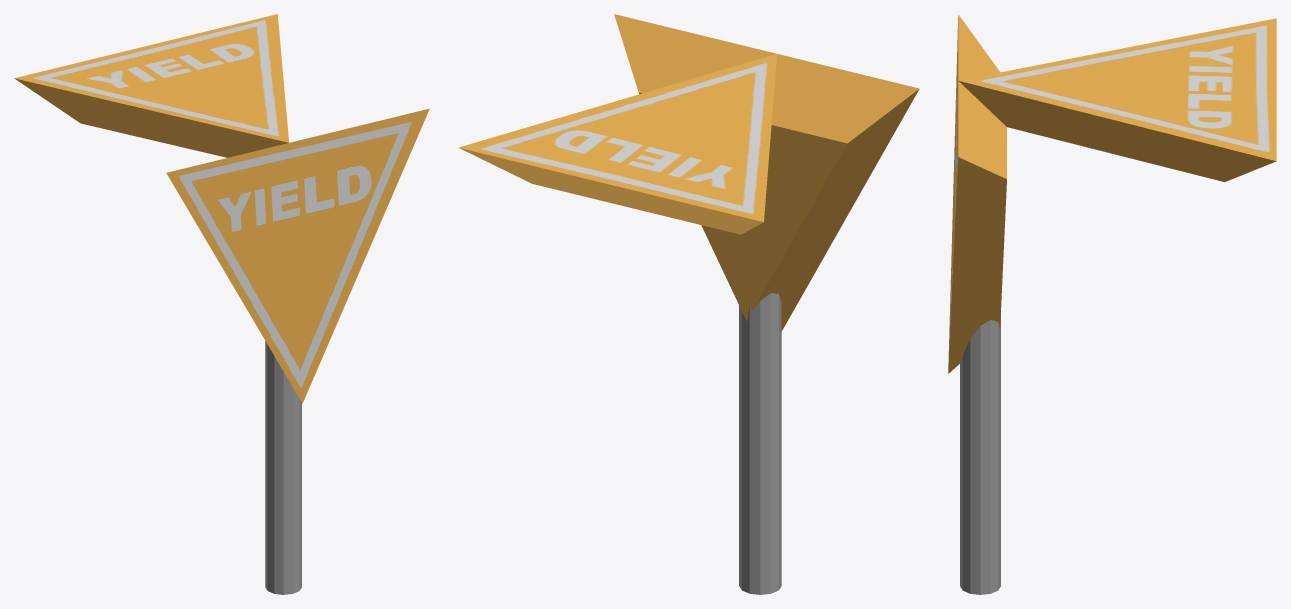
Rendered from yieldSign_v2.fbx.
The picture shows the model from 3 angles, left to right: view 1: azimuth 30°, elevation 25°; view 2: azimuth 150°, elevation 25°; view 3: azimuth 270°, elevation 25°; orthographic projection. The views are drawn at different scales.
Parts seen in each view (by area): view 1: yield_cube_01, yield_pole_01; view 2: yield_cube_01, yield_pole_01; view 3: yield_cube_01, yield_pole_01.
Part boxes in pixels (x1,y1,x2,y2): yield_cube_01: (14, 14, 429, 403); yield_pole_01: (265, 341, 301, 594); yield_cube_01: (458, 14, 919, 331); yield_pole_01: (739, 293, 781, 594); yield_cube_01: (948, 14, 1276, 373); yield_pole_01: (960, 315, 1000, 594).
Size of the model in its own units: 12.05 by 19.12 by 11.32.
